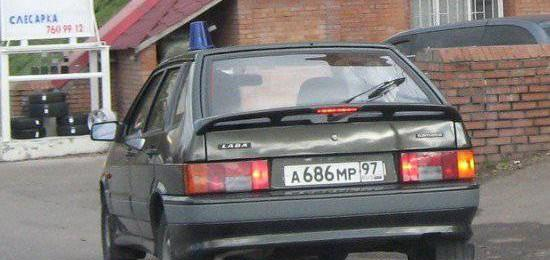license-plateSW: (284, 162, 384, 186)
